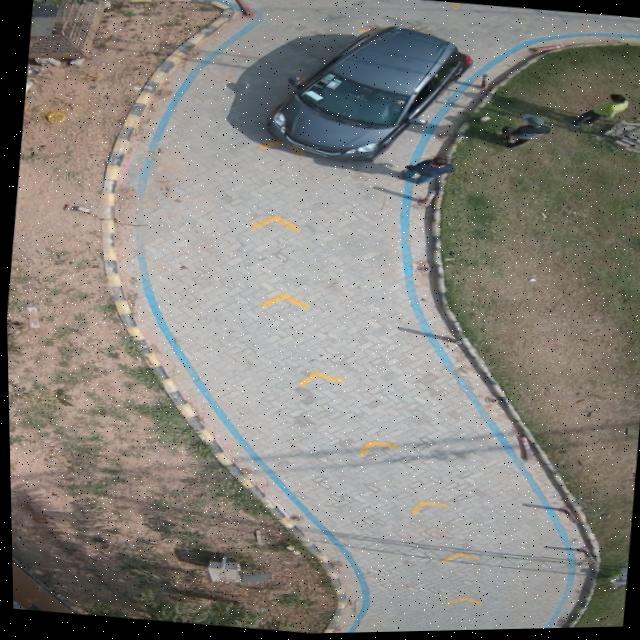car: (265, 28, 470, 164)
